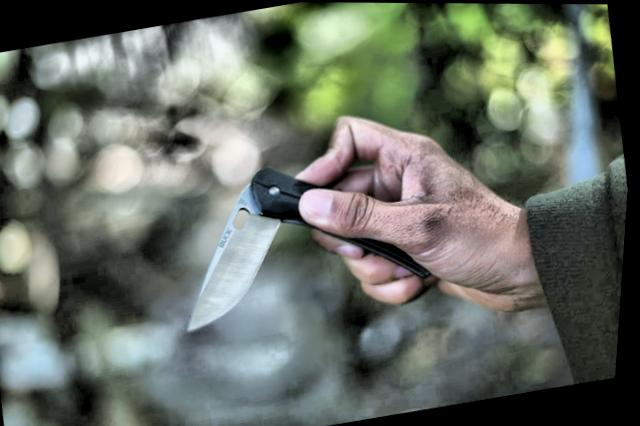knife: (152, 139, 387, 348)
